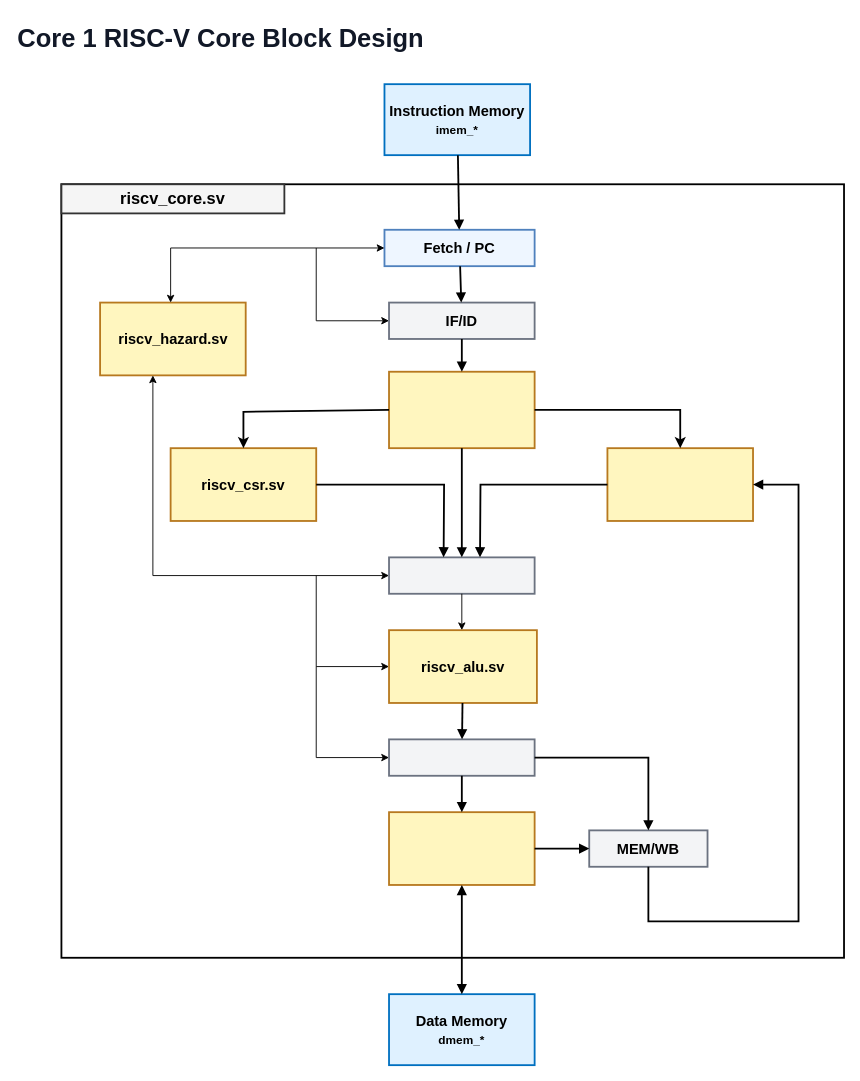
Some shapes in this 860 by 1081 pixel diagram are drawn without their labels. The centre of each missing label's shape, as x and y in pixels:
EX/MEM: the point at 461,757
ID/EX: the point at 461,575
riscv_decode.sv: the point at 461,409
riscv_lsu.sv: the point at 461,848
riscv_regfile.sv: the point at 679,484
